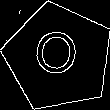O_S: (34, 29, 83, 85)
